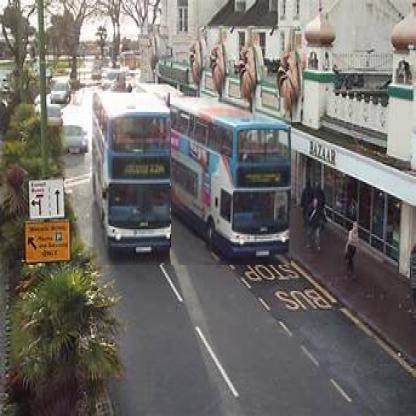bus: (172, 99, 293, 268), (91, 94, 172, 268)
car: (62, 128, 91, 155), (52, 81, 70, 107), (46, 105, 63, 128)
